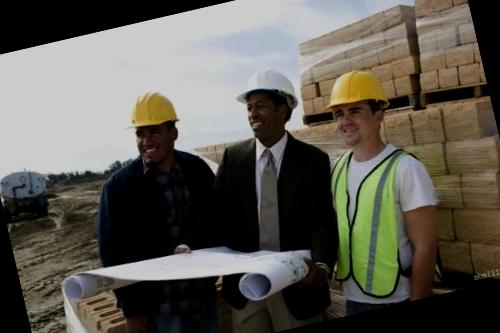helmet: (313, 62, 394, 127), (227, 58, 309, 122), (116, 84, 186, 138)
no_vest: (202, 121, 344, 275), (91, 144, 239, 272)
person: (189, 52, 363, 333), (67, 75, 249, 333), (303, 49, 463, 313)
